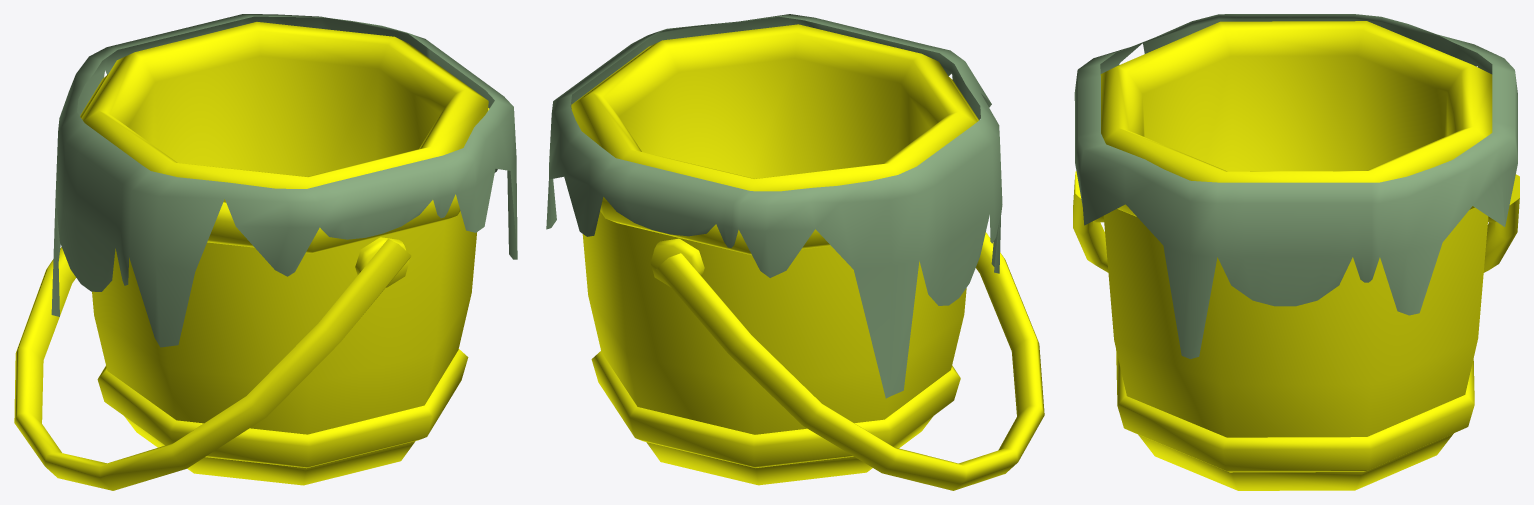
Rendered from Bucket_2.fbx.
3 renders of one model, left to right at view 1: azimuth 30°, elevation 25°; view 2: azimuth 150°, elevation 25°; view 3: azimuth 270°, elevation 25°, orthographic. The views are drawn at different scales.
Visible parts, largest first — view 1: Bucket_2; view 2: Bucket_2; view 3: Bucket_2.
Part boxes in pixels (bbox=[...]): Bucket_2: bbox=[14, 14, 517, 490]; Bucket_2: bbox=[546, 14, 1044, 490]; Bucket_2: bbox=[1073, 14, 1519, 490].
Bounding box in the file's own units: 53.72 × 38.95 × 47.13.
